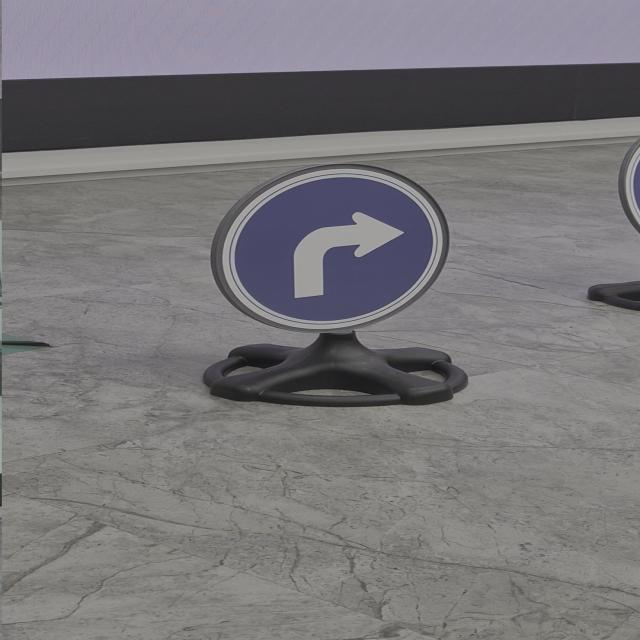right_dierection: (173, 145, 510, 335)
